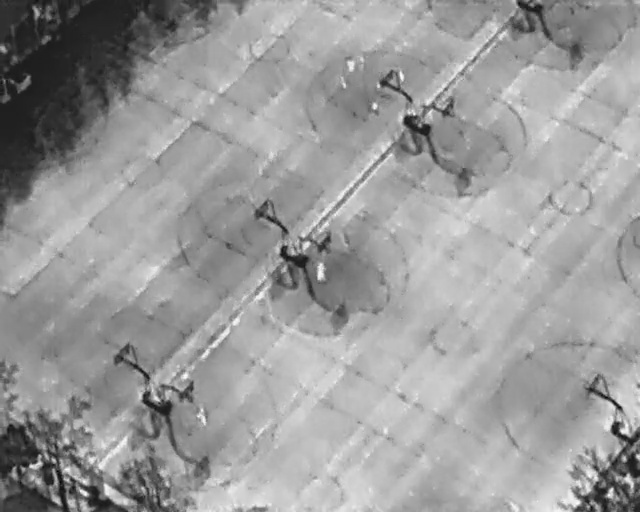Person: (316, 260, 326, 283), (196, 407, 206, 427), (345, 55, 355, 73), (339, 75, 347, 91), (372, 97, 378, 115)
